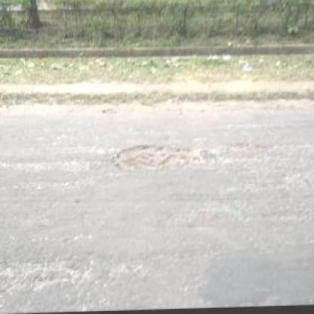Hueco: (113, 143, 209, 175)
